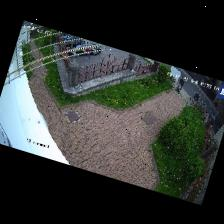person: (85, 48, 89, 59)
